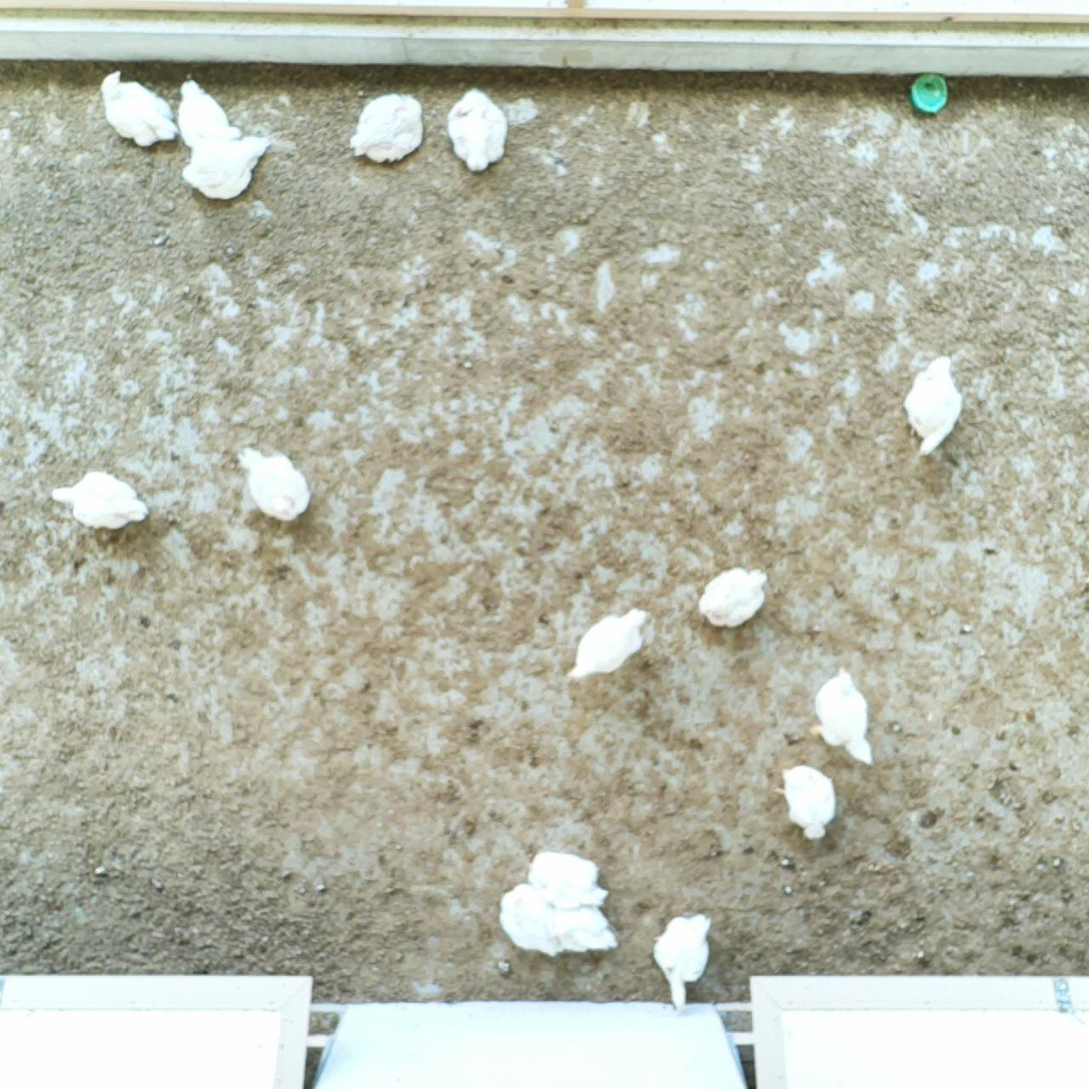chicken: (806, 661, 876, 768), (899, 353, 967, 460), (651, 912, 716, 1016), (49, 466, 151, 532), (101, 69, 180, 148), (237, 442, 311, 525), (568, 605, 650, 679), (181, 134, 272, 200), (520, 846, 611, 911), (348, 93, 425, 166), (497, 882, 568, 958), (447, 86, 509, 172), (776, 761, 841, 842), (175, 76, 245, 151), (694, 565, 771, 630), (534, 899, 619, 957)
